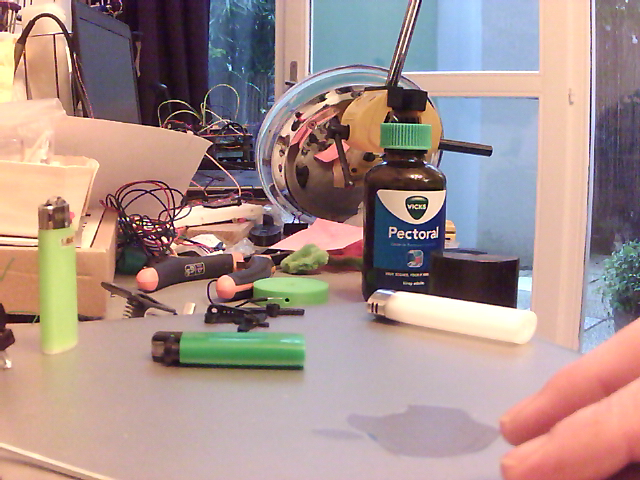lighter: (366, 282, 539, 357), (148, 327, 311, 376), (36, 195, 78, 354)
